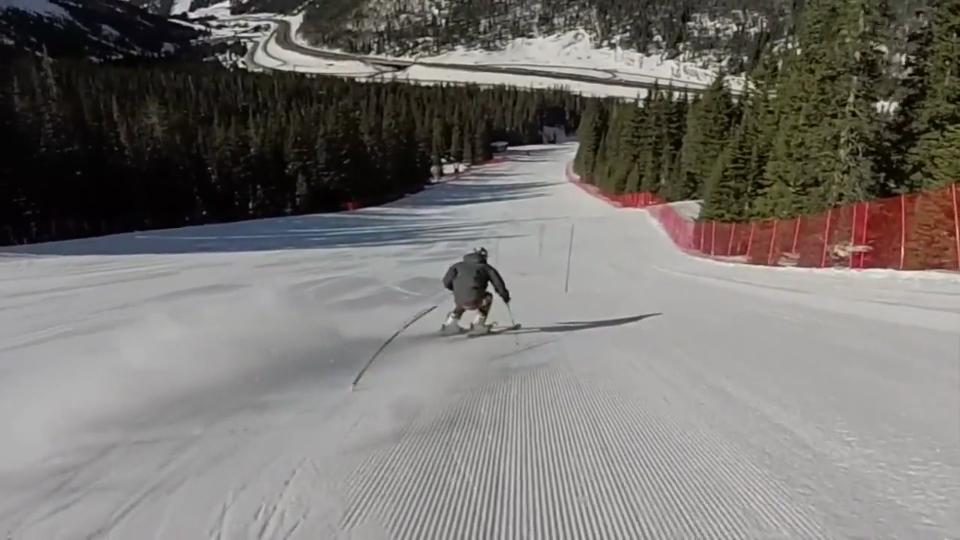gate: (321, 278, 442, 431)
